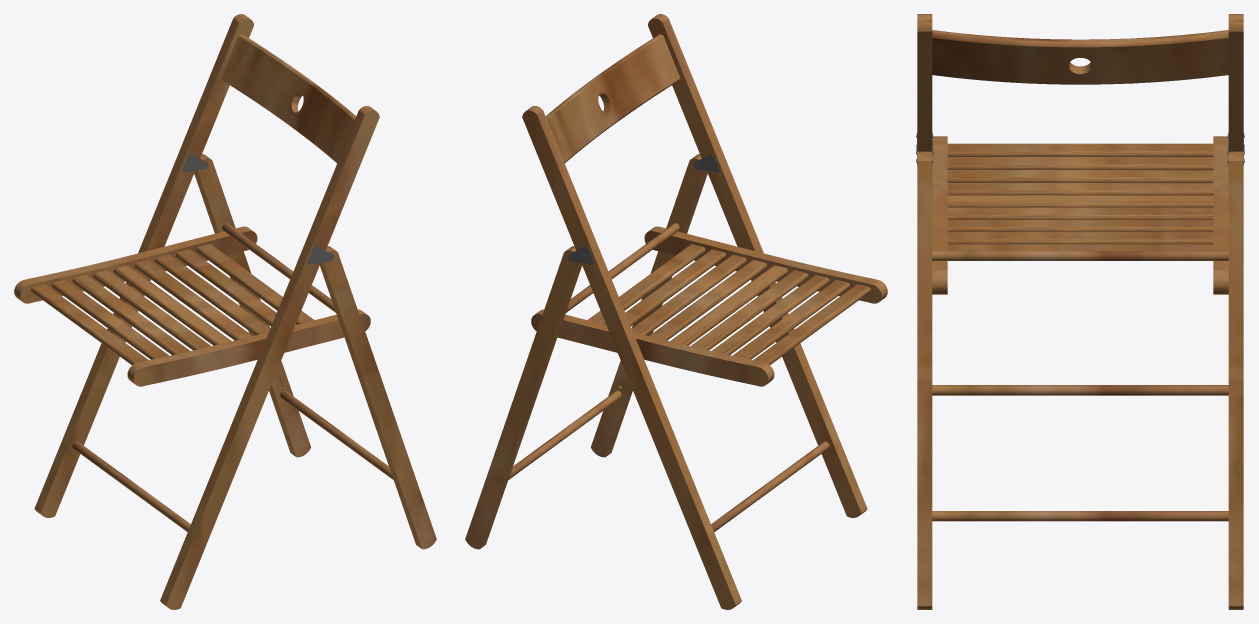
Rendered from ikea5.glb.
3 views of the same model, side by side, from view 1: azimuth 30°, elevation 25°; view 2: azimuth 150°, elevation 25°; view 3: azimuth 270°, elevation 25° (orthographic). The views are drawn at different scales.
Parts seen in each view (by area): view 1: Material2 (×11); view 2: Material2 (×11); view 3: Material2 (×11).
Part boxes in pixels (<box>): Material2 (×11): <box>14,14,436,609</box>; Material2 (×11): <box>465,14,887,609</box>; Material2 (×11): <box>917,14,1243,609</box>.
Bounding box in the file's own units: 22.05 × 32.03 × 17.01.
Materials: 4 (2 with a texture image).
